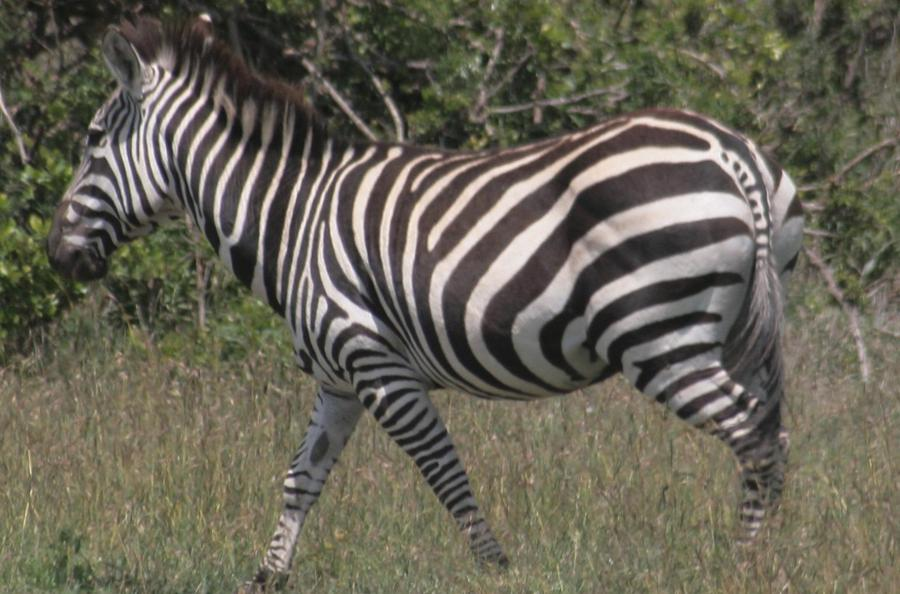zebra_plains: (242, 110, 761, 441)
